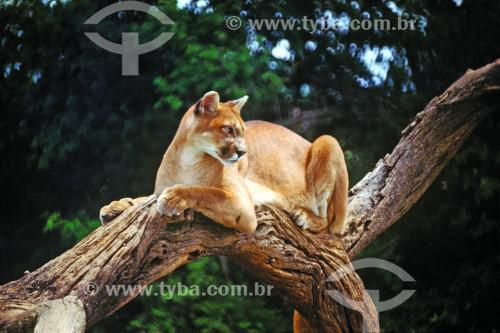OncaParda: (93, 89, 357, 248)
